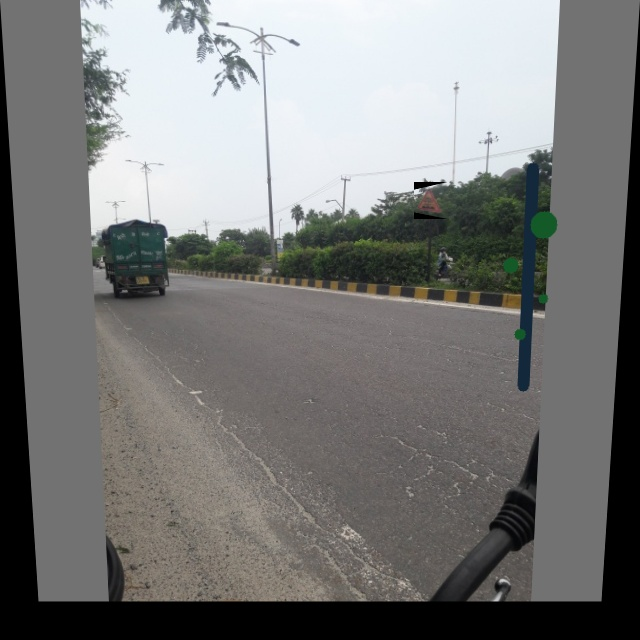Hump_or_Rough_Road: (414, 182, 448, 219)
